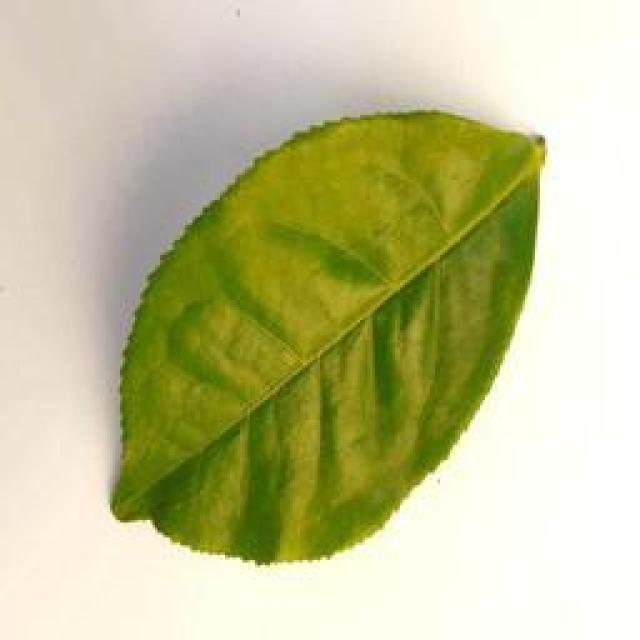Healthy: (91, 95, 570, 569)
